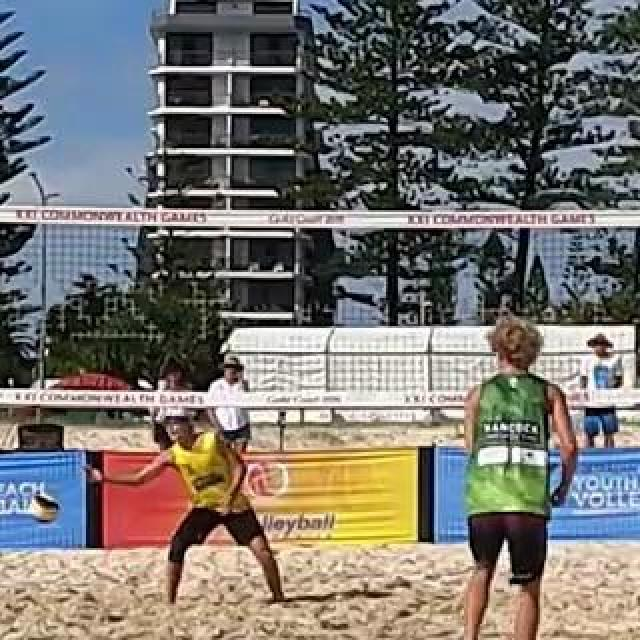volleyball: (31, 494, 59, 526)
